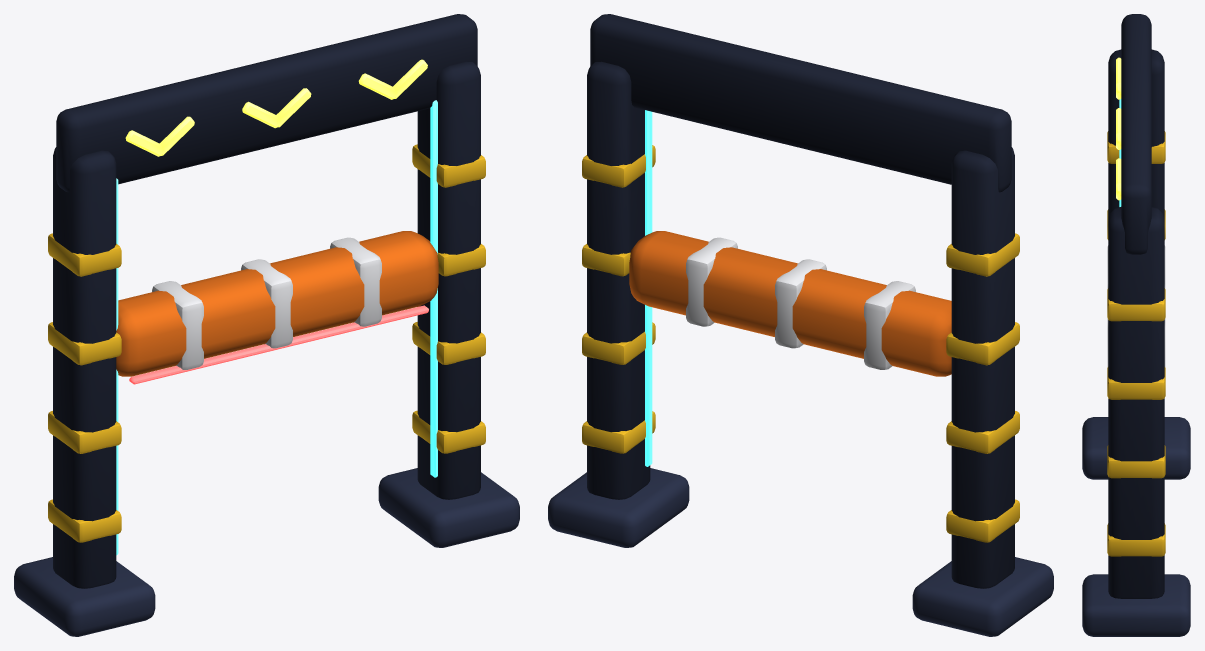
File: bl_gate.glb
3 renders of one model, left to right at view 1: azimuth 30°, elevation 25°; view 2: azimuth 150°, elevation 25°; view 3: azimuth 270°, elevation 25°, orthographic. The views are drawn at different scales.
Parts seen in each view (by area): view 1: gate; view 2: gate; view 3: gate.
Part boxes in pixels (x1,y1,x2,y2): gate: [14, 14, 519, 636]; gate: [548, 14, 1053, 636]; gate: [1082, 14, 1190, 636].
Size of the model in its own units: 2.14 by 2.26 by 0.5.
